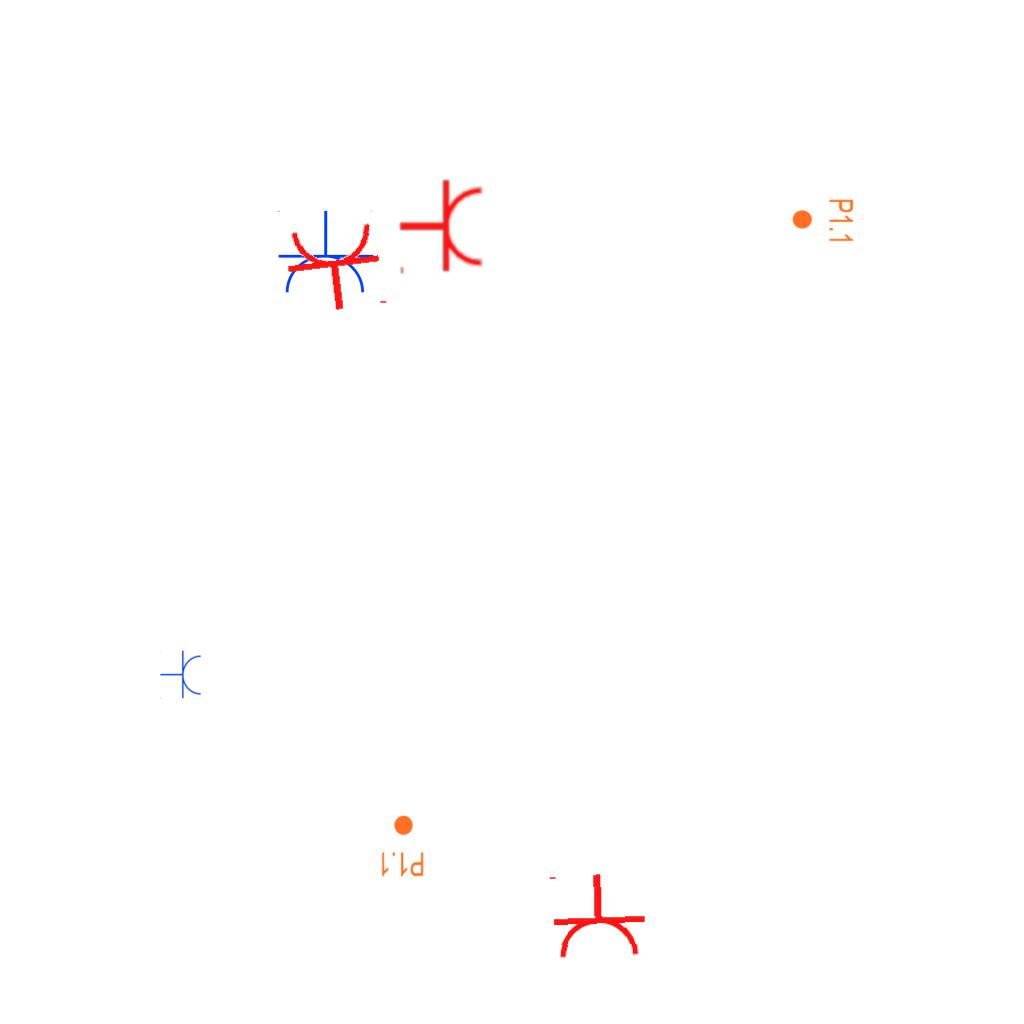Downlight_LED_Einbauleuchten_Flur: (791, 198, 855, 244), (379, 814, 425, 878)
Schukosteckdose_einfach: (281, 218, 392, 318), (545, 870, 648, 962), (275, 210, 375, 297), (398, 178, 485, 278), (160, 650, 203, 700)
